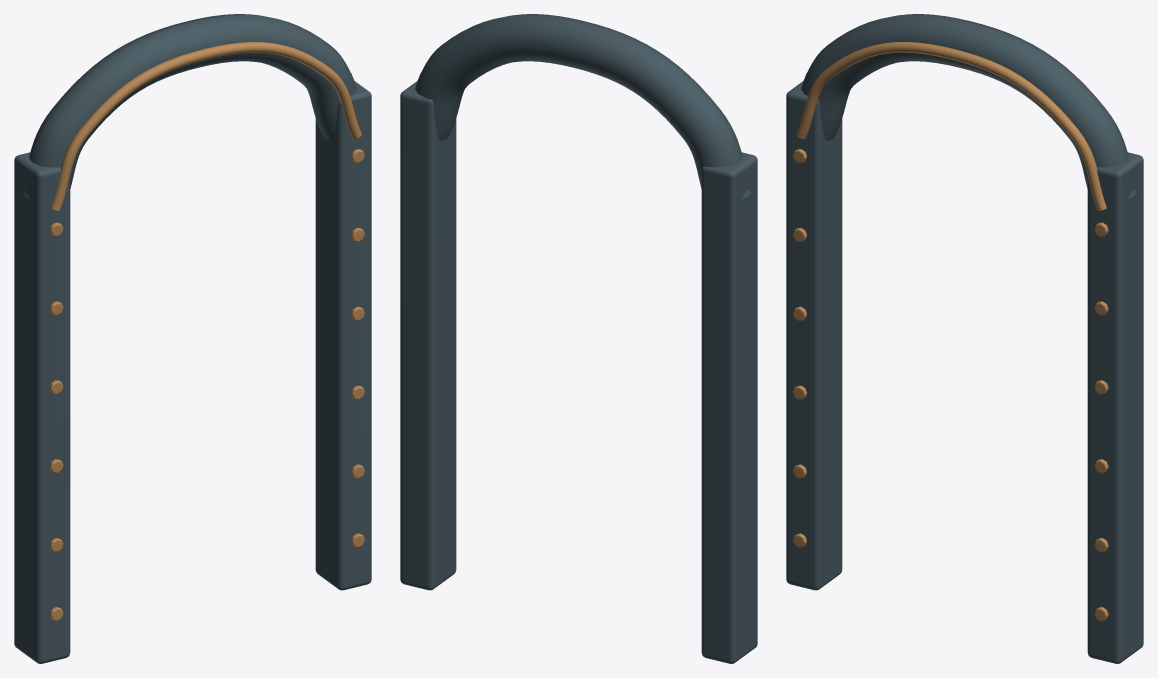
The model's file is Arch.fbx.
3 views of the same model, side by side, from view 1: azimuth 30°, elevation 25°; view 2: azimuth 150°, elevation 25°; view 3: azimuth 330°, elevation 25° (orthographic).
Visible parts, largest first — view 1: Arch; view 2: Arch; view 3: Arch.
Boxes of the visible parts, box(x1,y1,x2,y2) form: Arch: box(14, 14, 371, 663); Arch: box(400, 14, 757, 663); Arch: box(786, 14, 1143, 663).
Bounding box in the file's own units: 180 × 26.5 × 301.
